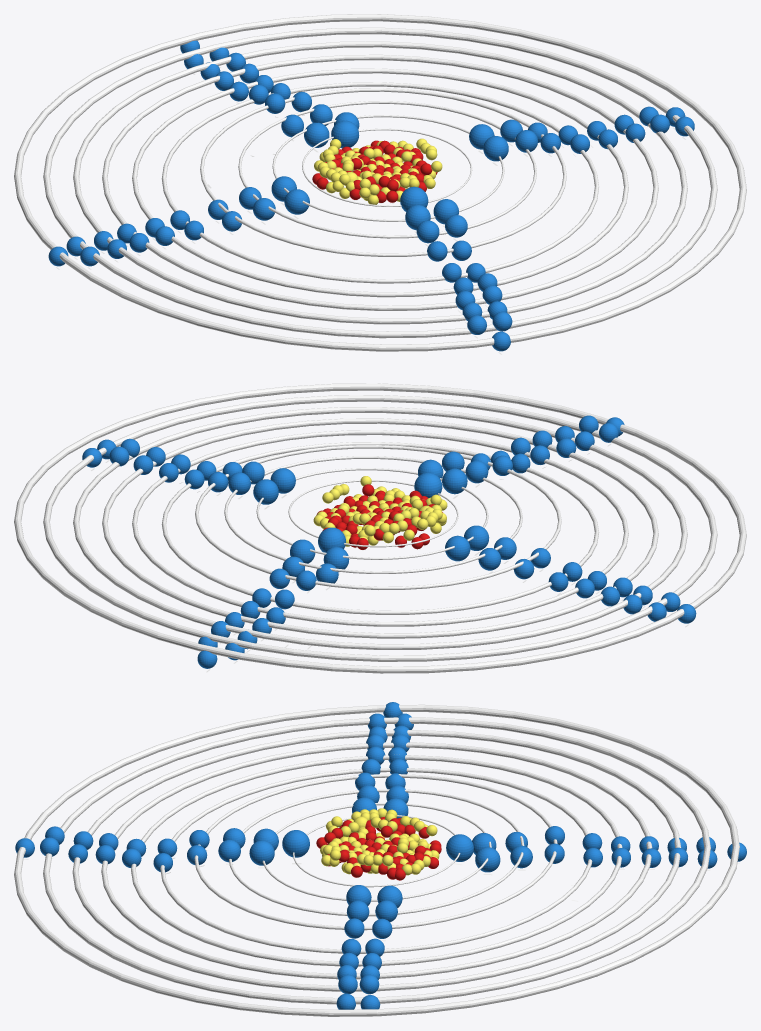
The picture shows the model from 3 angles, top to bottom: view 1: azimuth 30°, elevation 25°; view 2: azimuth 150°, elevation 25°; view 3: azimuth 270°, elevation 25°; orthographic projection.
Parts seen in each view (by area): view 1: Torus.010, Torus.009, Torus.008, Torus.007, Torus.006, Torus.005, Torus.004, Torus.003, Torus.002, Torus.001, g; view 2: Torus.010, Torus.009, Torus.008, Torus.007, Torus.006, Torus.005, Torus.004, Torus.003, Torus.002, Torus.001, g.001, g (+3 smaller); view 3: Torus.010, Torus.009, Torus.008, Torus.007, Torus.006, Torus.005, Torus.004, Torus.003, Torus.002, g.001, g, Torus.001.
Boxes of the visible parts, x1=… form: Torus.010: x1=14, y1=14, x2=746, y2=351; Torus.009: x1=43, y1=27, x2=717, y2=338; Torus.008: x1=73, y1=41, x2=687, y2=324; Torus.007: x1=102, y1=54, x2=658, y2=310; Torus.006: x1=132, y1=68, x2=628, y2=297; Torus.005: x1=161, y1=82, x2=598, y2=283; Torus.004: x1=200, y1=88, x2=566, y2=256; Torus.003: x1=238, y1=101, x2=536, y2=238; Torus.002: x1=272, y1=115, x2=504, y2=221; Torus.001: x1=302, y1=128, x2=472, y2=206; g: x1=331, y1=120, x2=359, y2=148; Torus.010: x1=14, y1=383, x2=746, y2=673; Torus.009: x1=43, y1=395, x2=717, y2=661; Torus.008: x1=73, y1=407, x2=687, y2=649; Torus.007: x1=102, y1=418, x2=658, y2=638; Torus.006: x1=132, y1=430, x2=628, y2=626; Torus.005: x1=161, y1=442, x2=599, y2=614; Torus.004: x1=195, y1=445, x2=561, y2=589; Torus.003: x1=224, y1=456, x2=522, y2=573; Torus.002: x1=256, y1=468, x2=488, y2=559; Torus.001: x1=288, y1=480, x2=458, y2=547; g.001: x1=414, y1=472, x2=442, y2=497; g: x1=318, y1=527, x2=345, y2=552; Torus.010: x1=14, y1=704, x2=739, y2=1016; Torus.009: x1=43, y1=717, x2=710, y2=1004; Torus.008: x1=72, y1=730, x2=681, y2=991; Torus.007: x1=101, y1=742, x2=652, y2=979; Torus.006: x1=131, y1=755, x2=622, y2=966; Torus.005: x1=160, y1=768, x2=592, y2=953; Torus.004: x1=194, y1=774, x2=557, y2=930; Torus.003: x1=229, y1=789, x2=524, y2=916; Torus.002: x1=262, y1=803, x2=491, y2=901; g.001: x1=282, y1=830, x2=309, y2=857; g: x1=446, y1=834, x2=473, y2=861; Torus.001: x1=293, y1=815, x2=460, y2=887.
Bounding box in the file's own units: 26.06 × 2.85 × 26.08.
